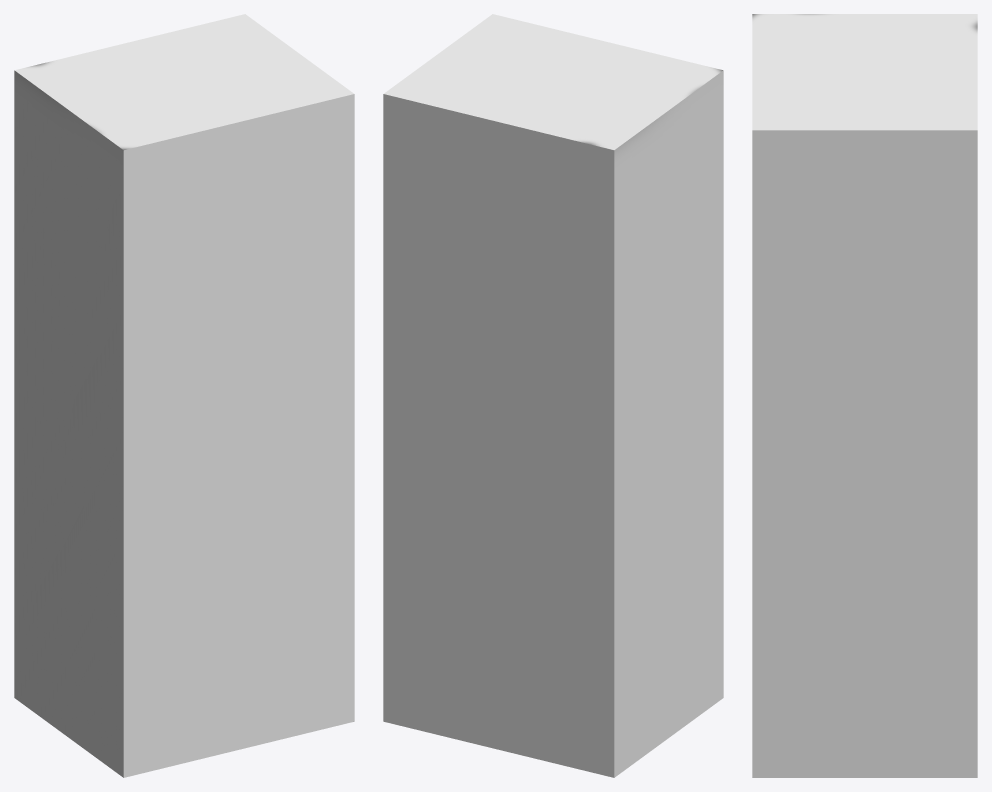
The model's file is cornLegs.glb.
The picture shows the model from 3 angles, left to right: view 1: azimuth 30°, elevation 25°; view 2: azimuth 150°, elevation 25°; view 3: azimuth 270°, elevation 25°; orthographic projection. The views are drawn at different scales.
Parts seen in each view (by area): view 1: Cube.001; view 2: Cube.001; view 3: Cube.001.
Part boxes in pixels (left/top/right/bottom): Cube.001: left=14, top=14, right=354, bottom=777; Cube.001: left=383, top=14, right=723, bottom=777; Cube.001: left=752, top=14, right=977, bottom=777.
Bounding box in the file's own units: 0.7697 × 2 × 0.631.
1 material, 1 textured.
